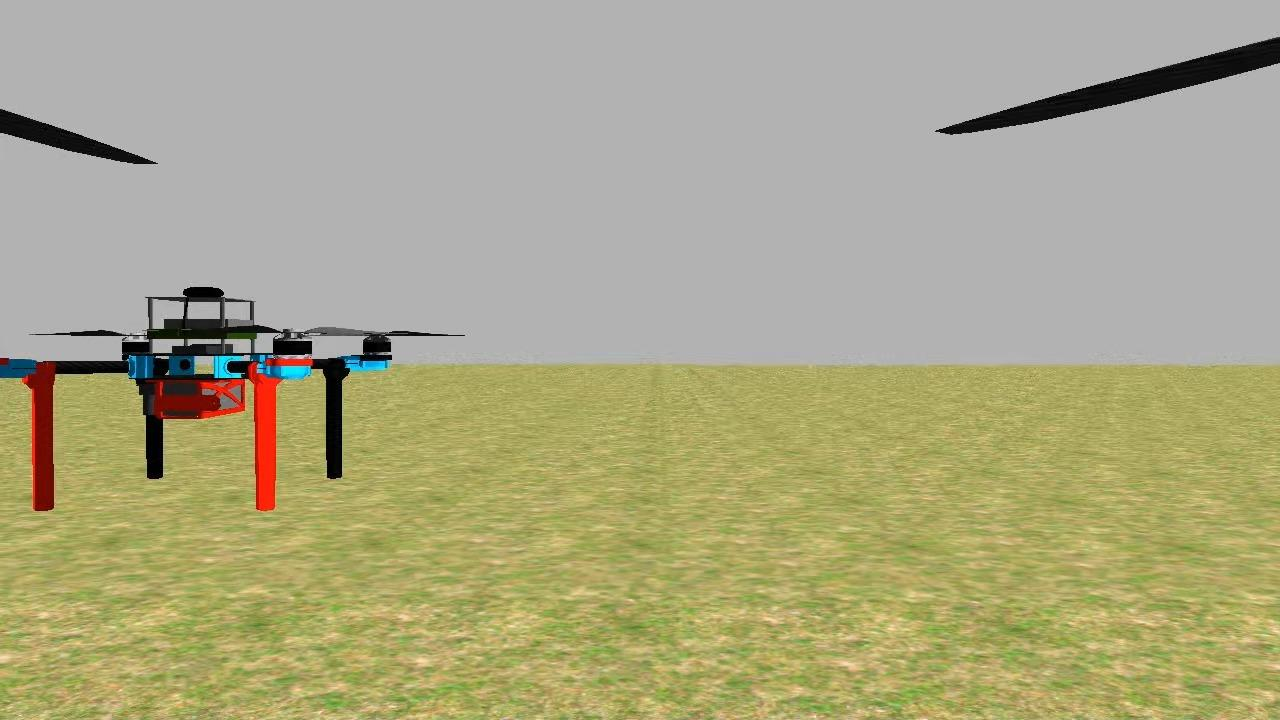UAV: (0, 283, 407, 538)
